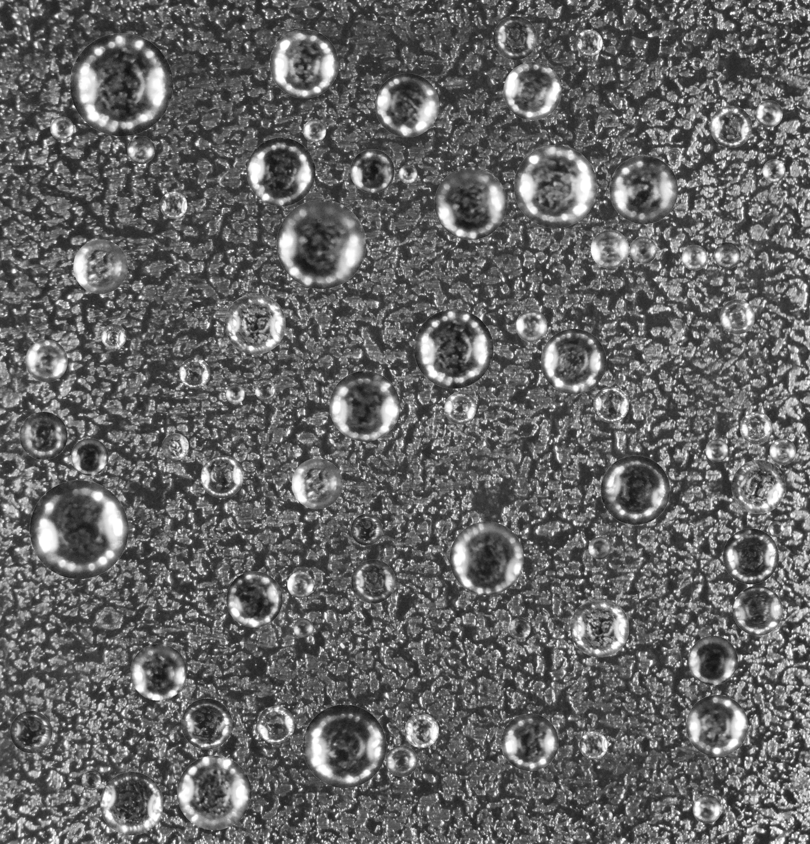Bubble: (69, 33, 172, 136), (29, 480, 128, 579), (276, 199, 365, 288), (302, 704, 386, 788), (514, 145, 597, 228), (414, 309, 493, 388), (177, 755, 251, 830), (449, 521, 523, 595), (434, 167, 506, 239), (329, 371, 399, 441), (600, 455, 670, 524), (269, 29, 338, 98), (609, 155, 678, 224), (246, 137, 315, 206), (541, 328, 606, 394), (375, 73, 439, 137), (100, 772, 163, 835), (686, 695, 748, 756), (224, 293, 285, 354), (570, 598, 629, 657), (503, 62, 561, 120), (501, 713, 558, 771), (226, 571, 282, 627), (130, 644, 186, 700), (723, 528, 778, 584), (73, 239, 127, 293), (731, 460, 785, 513), (181, 698, 232, 749), (291, 458, 342, 509), (688, 635, 737, 685), (733, 585, 782, 635), (19, 411, 67, 459), (350, 149, 394, 193), (351, 559, 395, 603), (493, 16, 537, 59), (200, 455, 243, 498), (25, 339, 67, 382), (10, 711, 52, 753), (710, 105, 752, 147), (590, 230, 629, 268), (71, 438, 108, 475), (257, 706, 294, 743), (593, 386, 629, 422), (720, 299, 754, 334), (404, 713, 438, 747), (740, 411, 772, 444), (444, 392, 476, 424), (515, 310, 547, 341), (350, 514, 382, 545), (386, 745, 417, 776), (179, 357, 210, 388), (692, 794, 721, 823), (579, 731, 607, 759), (127, 136, 155, 163), (629, 236, 656, 263), (160, 191, 187, 218), (161, 433, 188, 460), (756, 100, 782, 127), (576, 29, 602, 56), (769, 438, 796, 464), (681, 244, 707, 270), (714, 242, 740, 268), (287, 571, 313, 597), (101, 324, 126, 349), (303, 119, 326, 142), (705, 439, 728, 462), (50, 116, 73, 139), (762, 159, 785, 182), (588, 537, 610, 559), (509, 617, 530, 639), (81, 770, 101, 790), (255, 380, 275, 400), (293, 618, 313, 637), (225, 384, 244, 403), (398, 164, 417, 183), (768, 521, 783, 537), (667, 148, 682, 163), (599, 809, 613, 823), (691, 58, 702, 69), (664, 3, 675, 13)
